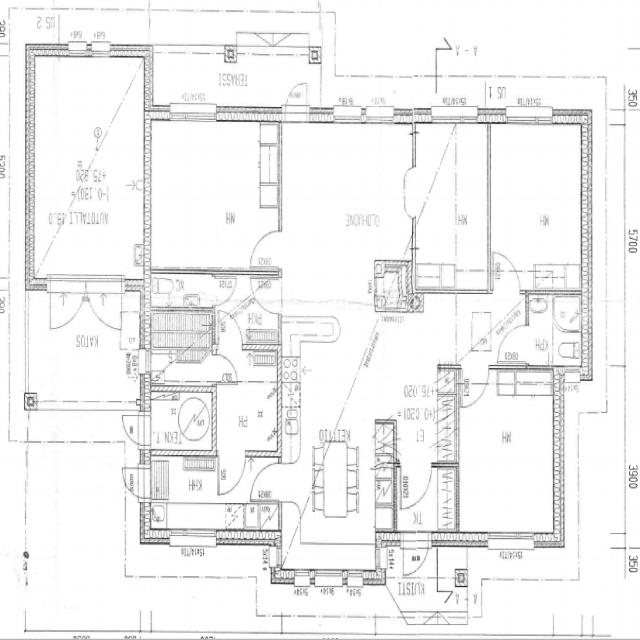door: (87, 286, 122, 331), (47, 285, 82, 330), (246, 226, 282, 269), (491, 318, 524, 364), (401, 464, 433, 510), (401, 533, 432, 577), (282, 77, 312, 120), (216, 455, 246, 498), (249, 459, 278, 502), (492, 250, 520, 294), (464, 373, 489, 409), (214, 272, 238, 305), (121, 411, 144, 445), (122, 465, 145, 498), (217, 353, 238, 382)
window: (295, 568, 362, 590), (501, 108, 558, 128), (482, 529, 540, 548), (167, 104, 219, 125), (168, 526, 220, 544), (430, 109, 483, 126), (332, 106, 366, 125), (66, 41, 90, 57), (90, 41, 112, 57)
zone: (279, 292, 457, 544), (30, 51, 147, 284), (279, 117, 414, 300), (145, 118, 279, 270), (489, 116, 588, 292), (458, 372, 559, 540), (411, 116, 491, 292), (152, 454, 214, 534), (214, 381, 280, 456), (523, 291, 584, 369), (216, 276, 280, 350), (148, 389, 216, 452), (154, 454, 219, 506), (150, 271, 215, 312), (120, 291, 143, 350)
